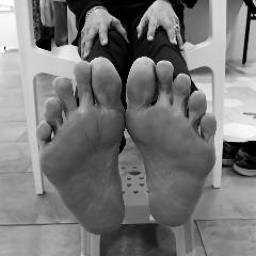Plantar View -Both Feet-: (20, 38, 238, 244)
